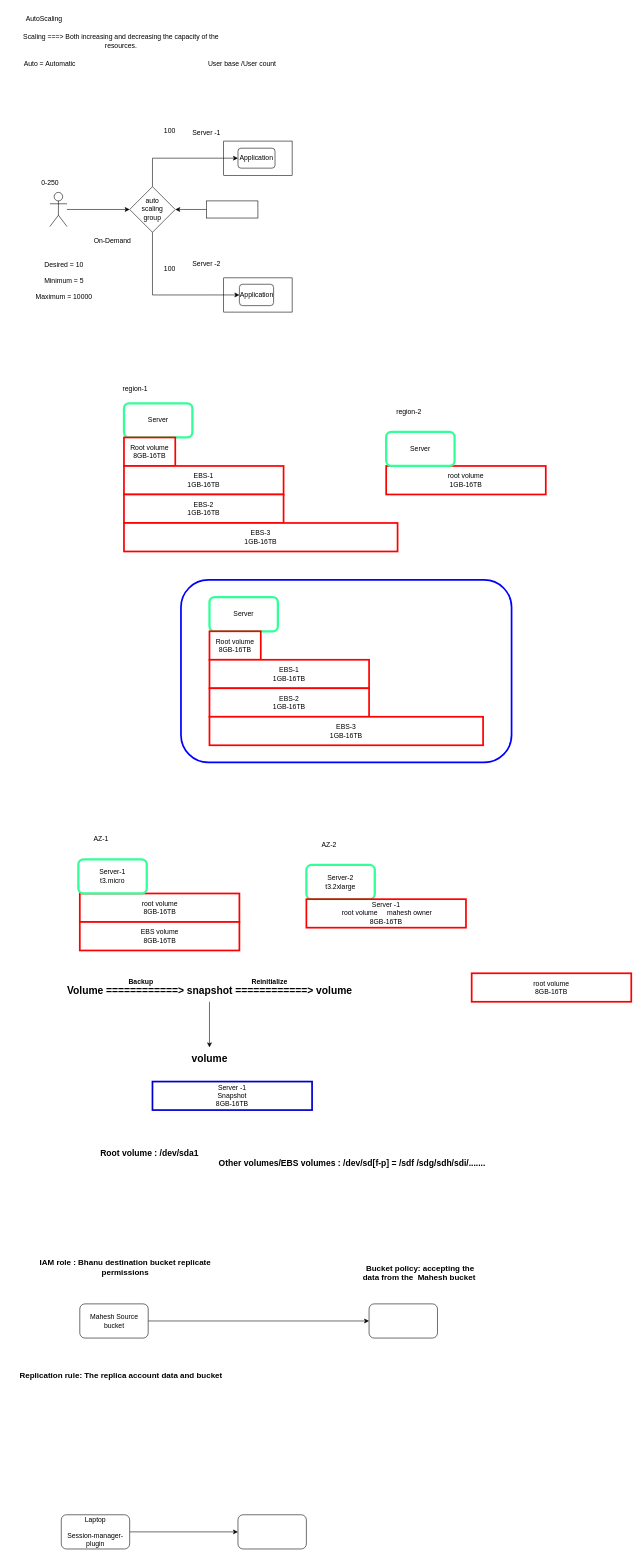
Image size: 642x1559. Some labels were removed from this diagram. Here are the shapes that lost their labels. From the top down, the centre of each, then its label:
[58,209]: Actor
[232,209]: Launch Template
[403,1320]: Bhanu Destination bucket
[271,1531]: EC2 Session-manager agent
